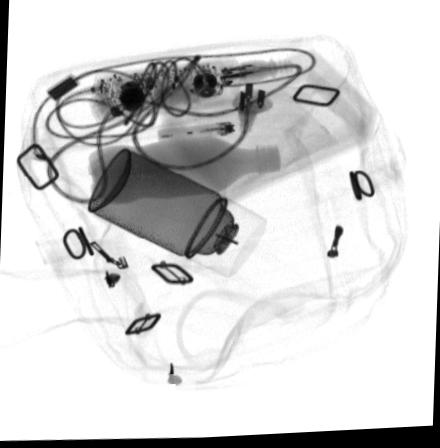Lighter: (157, 119, 238, 148)
Sprayer: (86, 148, 267, 278)
